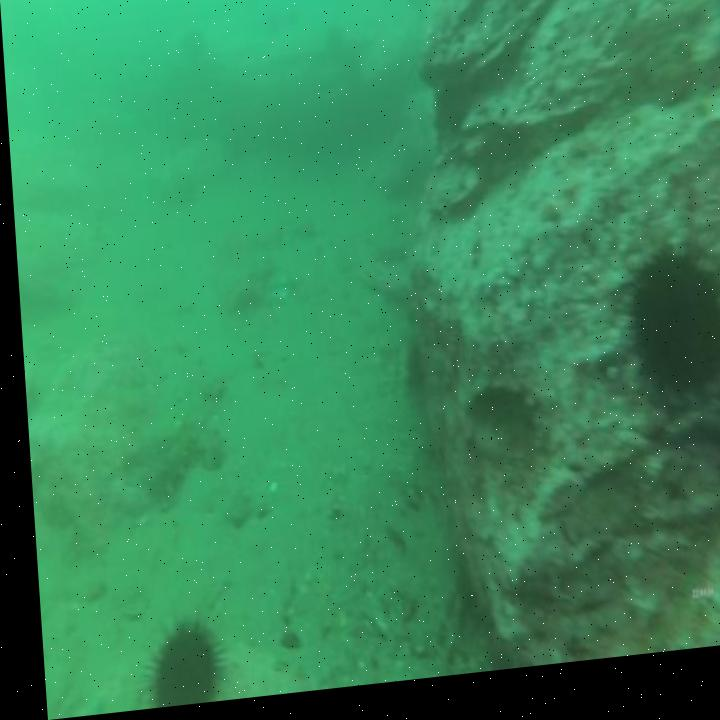echinus: (613, 251, 720, 435), (131, 615, 219, 711), (394, 348, 422, 405)
holothurian: (141, 420, 223, 516)
